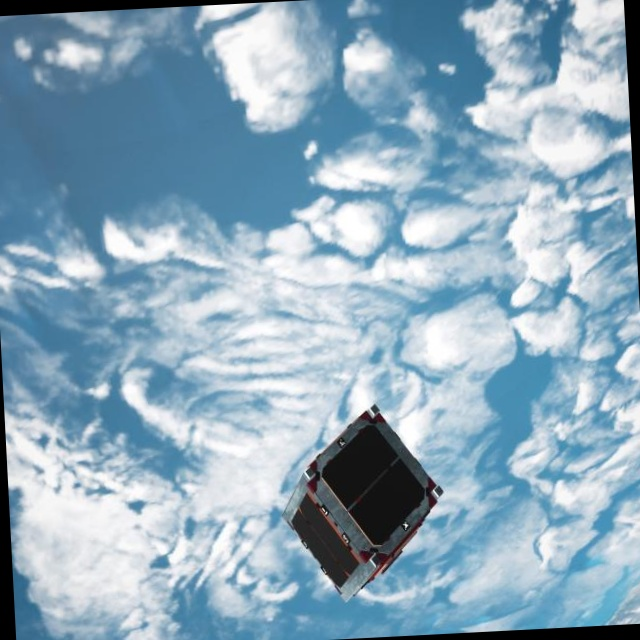medium_debris: (272, 401, 453, 607)
